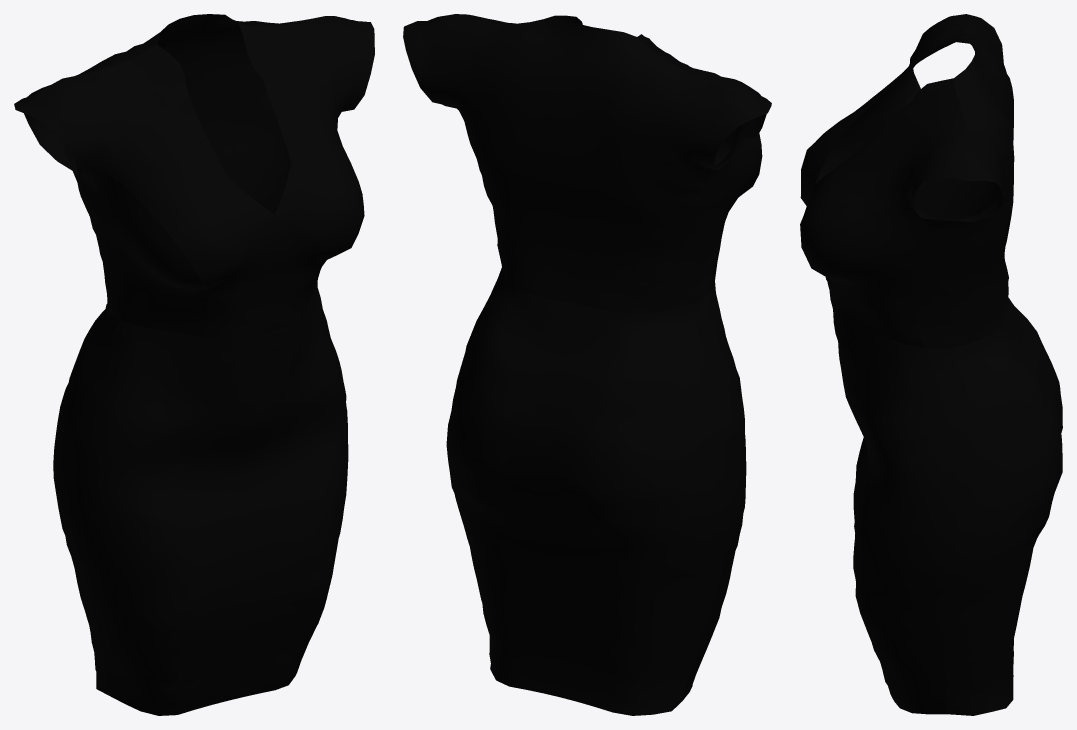
The model's file is large_blackBusiness_noinside_altered.obj.
3 views of the same model, side by side, from view 1: azimuth 30°, elevation 25°; view 2: azimuth 150°, elevation 25°; view 3: azimuth 270°, elevation 25° (orthographic). The views are drawn at different scales.
Visible parts, largest first — view 1: large_blackBusiness_noinside:polySurface2 large_blackBusiness_no; view 2: large_blackBusiness_noinside:polySurface2 large_blackBusiness_no; view 3: large_blackBusiness_noinside:polySurface2 large_blackBusiness_no.
Part boxes in pixels (x1=…): large_blackBusiness_noinside:polySurface2 large_blackBusiness_no: x1=14, y1=14, x2=374, y2=715; large_blackBusiness_noinside:polySurface2 large_blackBusiness_no: x1=403, y1=14, x2=771, y2=715; large_blackBusiness_noinside:polySurface2 large_blackBusiness_no: x1=800, y1=14, x2=1062, y2=715.
Size of the model in its own units: 5.17 by 9.08 by 3.44.
Materials: 6 (6 with a texture image).
